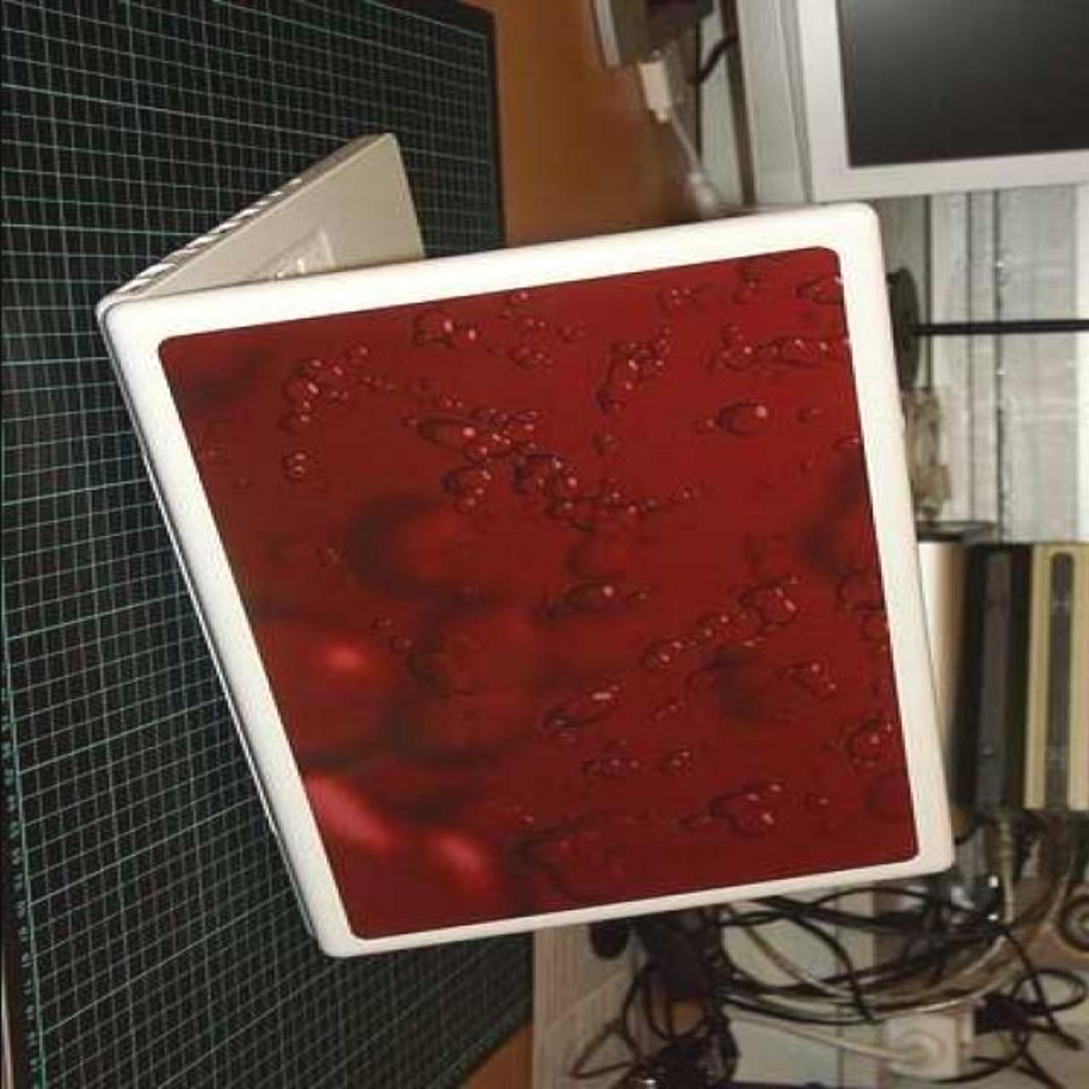laptop: (94, 136, 948, 963)
